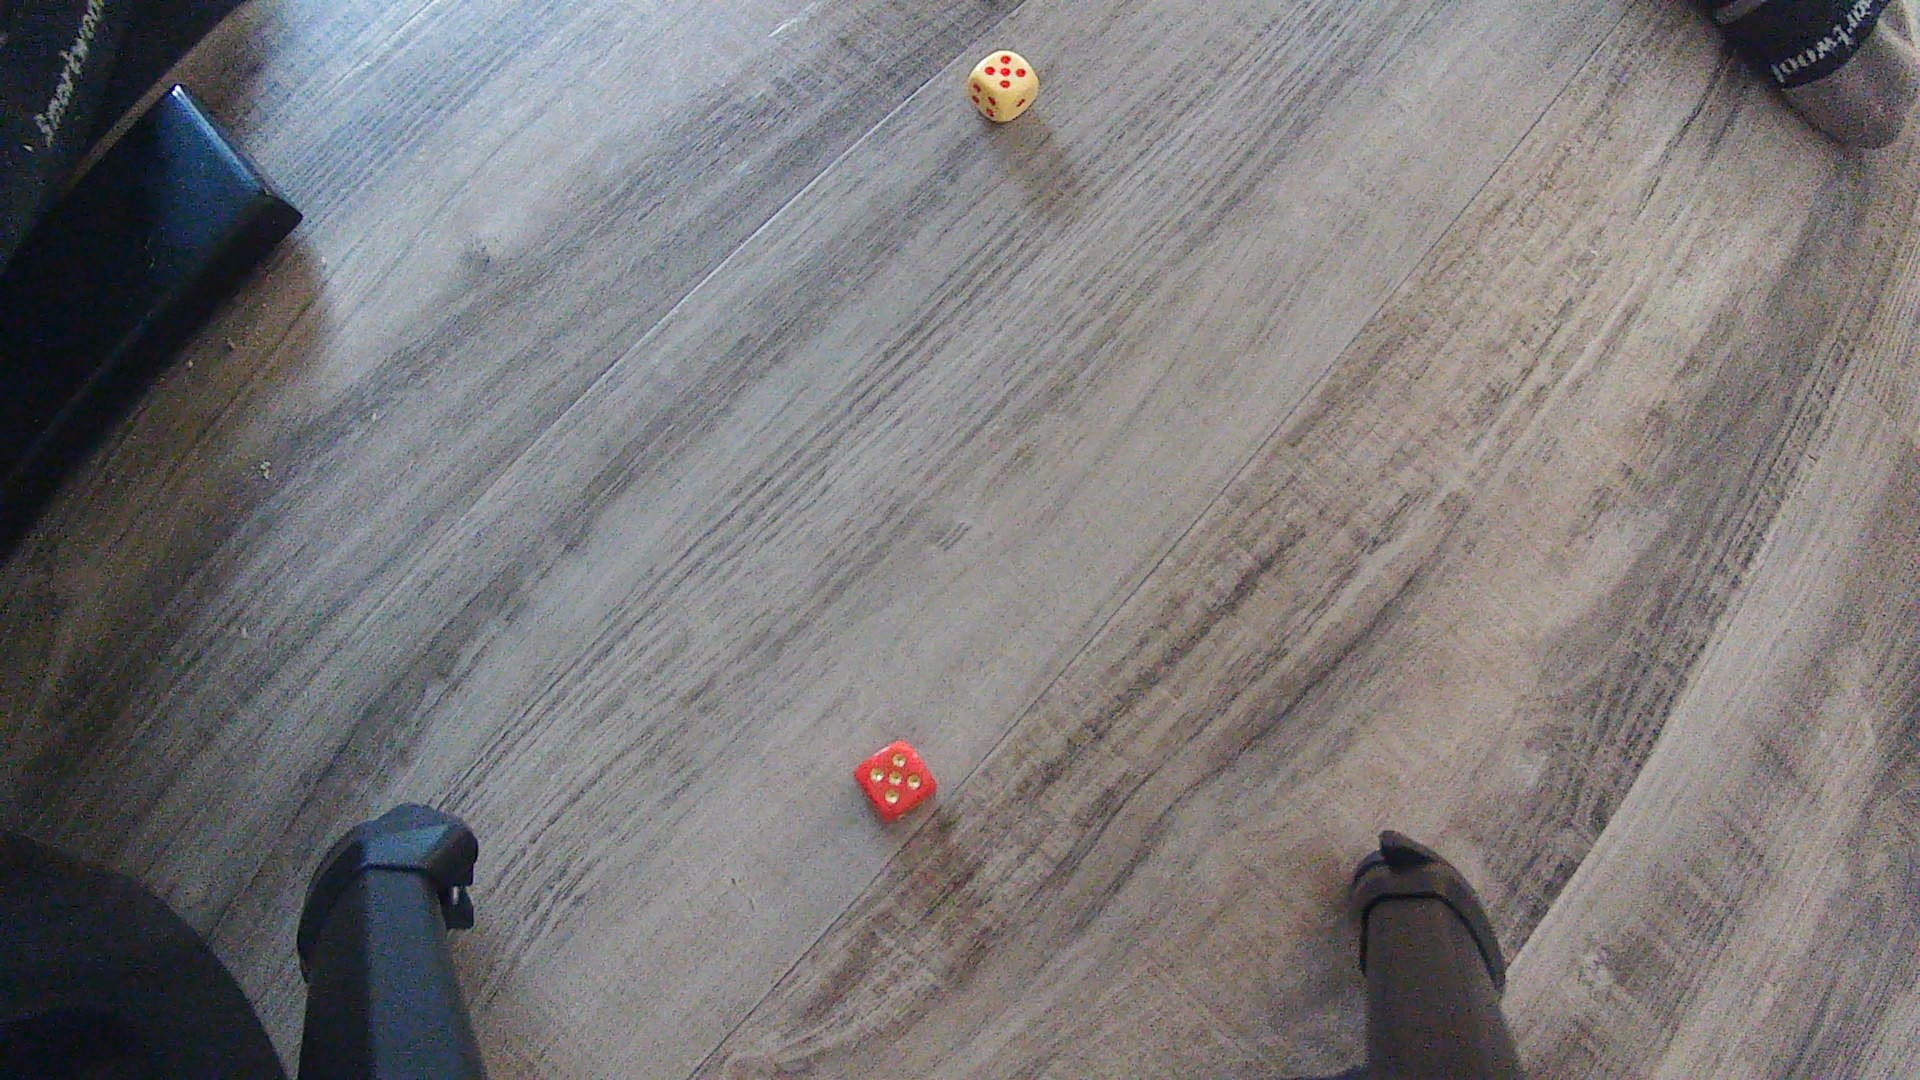die: (852, 738, 939, 825), (964, 47, 1042, 123)
